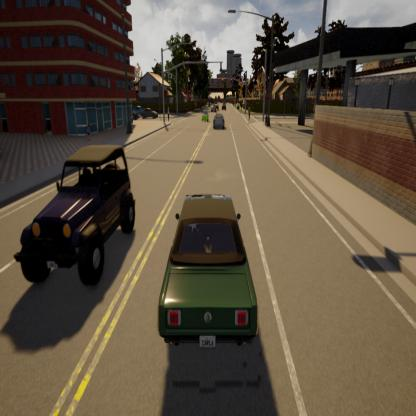Cars: (15, 92, 139, 317), (148, 162, 268, 358), (210, 114, 228, 132), (142, 104, 160, 122), (133, 100, 144, 120), (200, 107, 209, 130), (209, 100, 220, 112), (221, 96, 227, 112)
Pedestrian: (262, 109, 270, 134), (165, 101, 171, 125), (247, 102, 252, 127)
